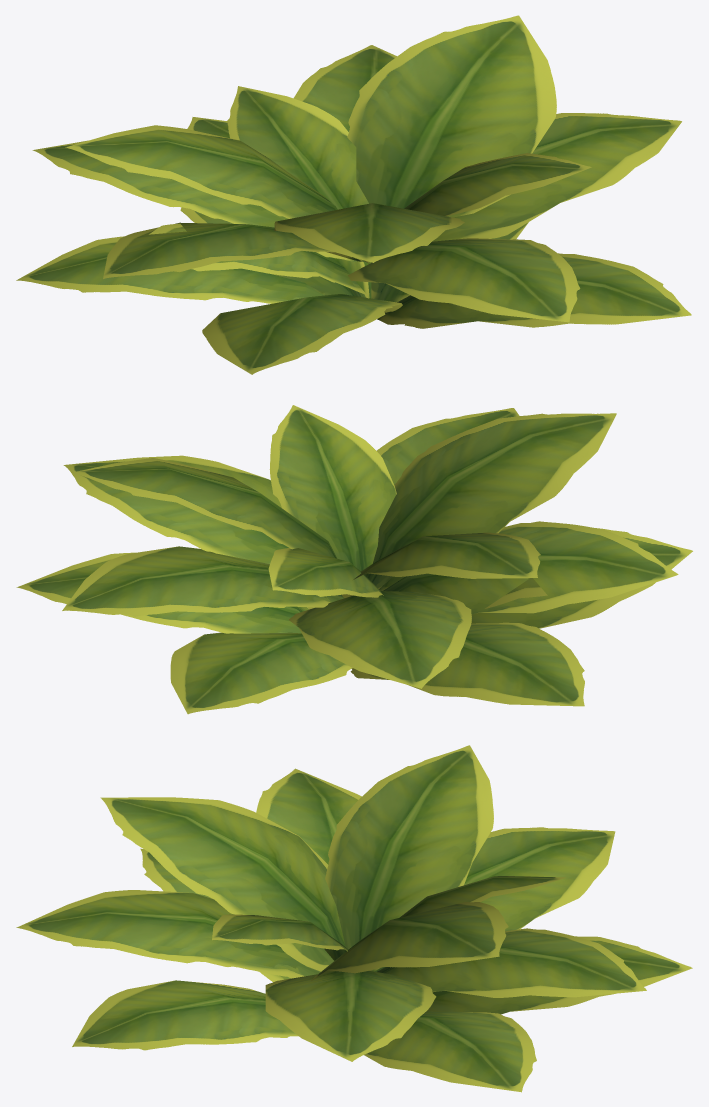
Rendered from Remains_plants_02.fbx.
3 views of the same model, one above another, from view 1: azimuth 30°, elevation 25°; view 2: azimuth 150°, elevation 25°; view 3: azimuth 270°, elevation 25° (orthographic). The views are drawn at different scales.
Parts seen in each view (by area): view 1: Remains_plants_02; view 2: Remains_plants_02; view 3: Remains_plants_02.
Boxes of the visible parts, left/top/right/bottom form: Remains_plants_02: left=16, top=15, right=691, bottom=374; Remains_plants_02: left=16, top=405, right=692, bottom=714; Remains_plants_02: left=16, top=745, right=692, bottom=1092.
Bounding box in the file's own units: 123 × 36.6 × 126.
1 material, 1 textured.
